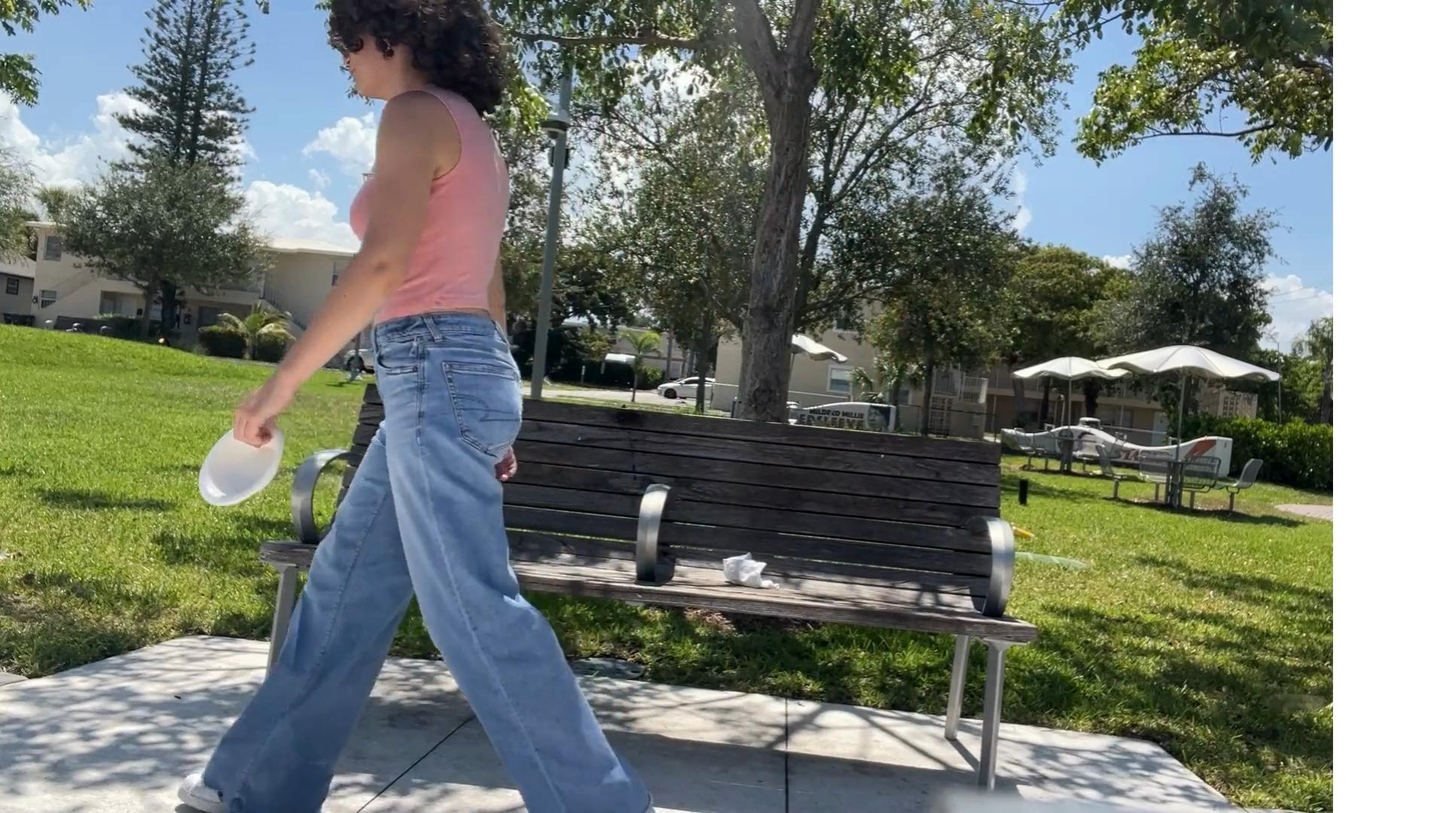Trash: (712, 545, 783, 603)
